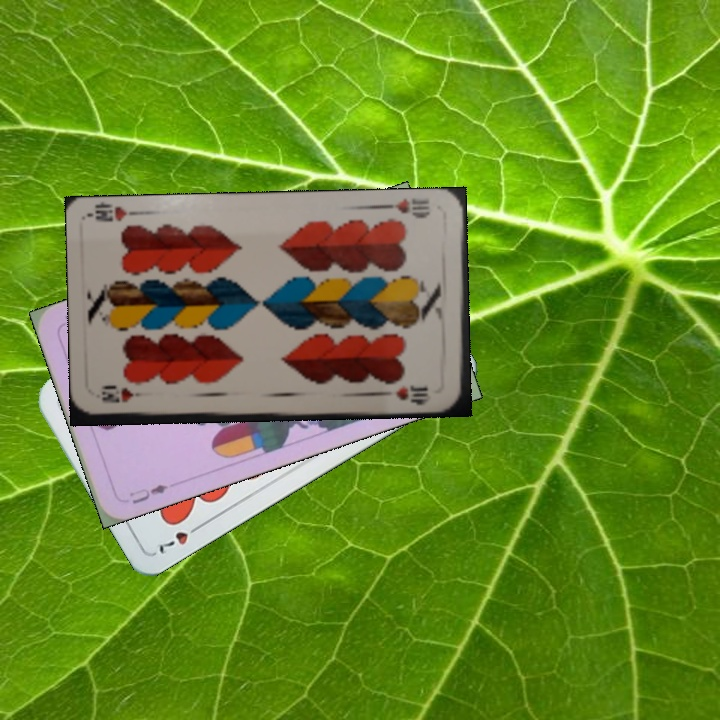EU: (124, 480, 171, 507)
H10: (380, 196, 433, 221), (98, 388, 154, 406)
H7: (154, 519, 205, 557)
